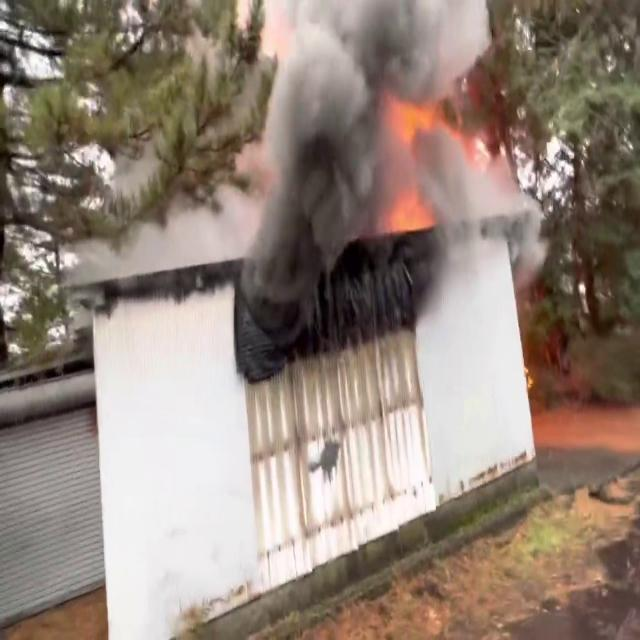Fire: (380, 84, 440, 236)
Smoke: (230, 0, 490, 307)
